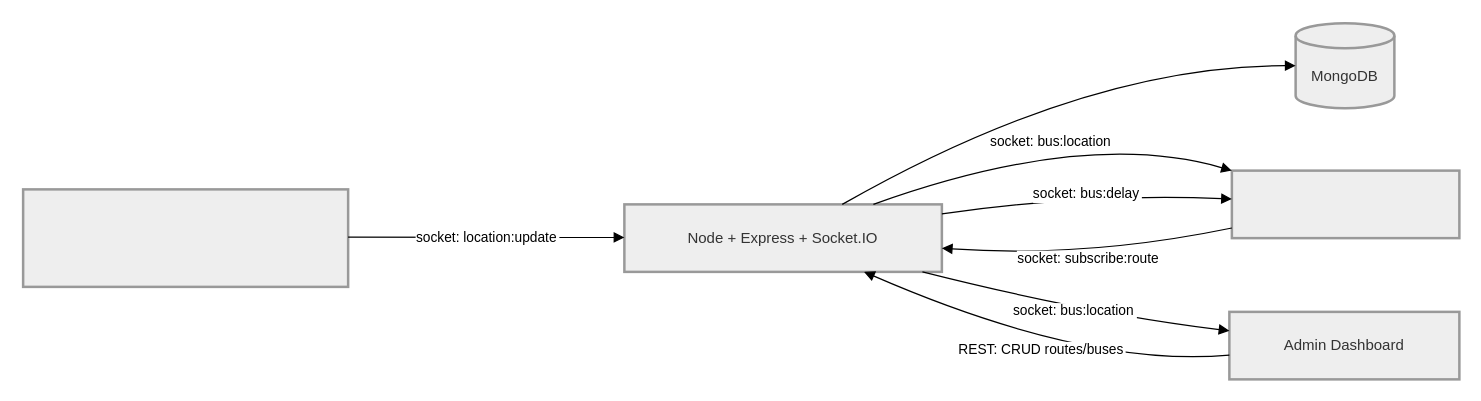
The diagram is 1481 pixels wide and 401 high, and some of its shapes have lost their labels. Each missing label, with the centre of its shape:
"Driver PWA (mobile browser)" belongs at point (185, 238).
"Student Web App" belongs at point (1345, 204).
